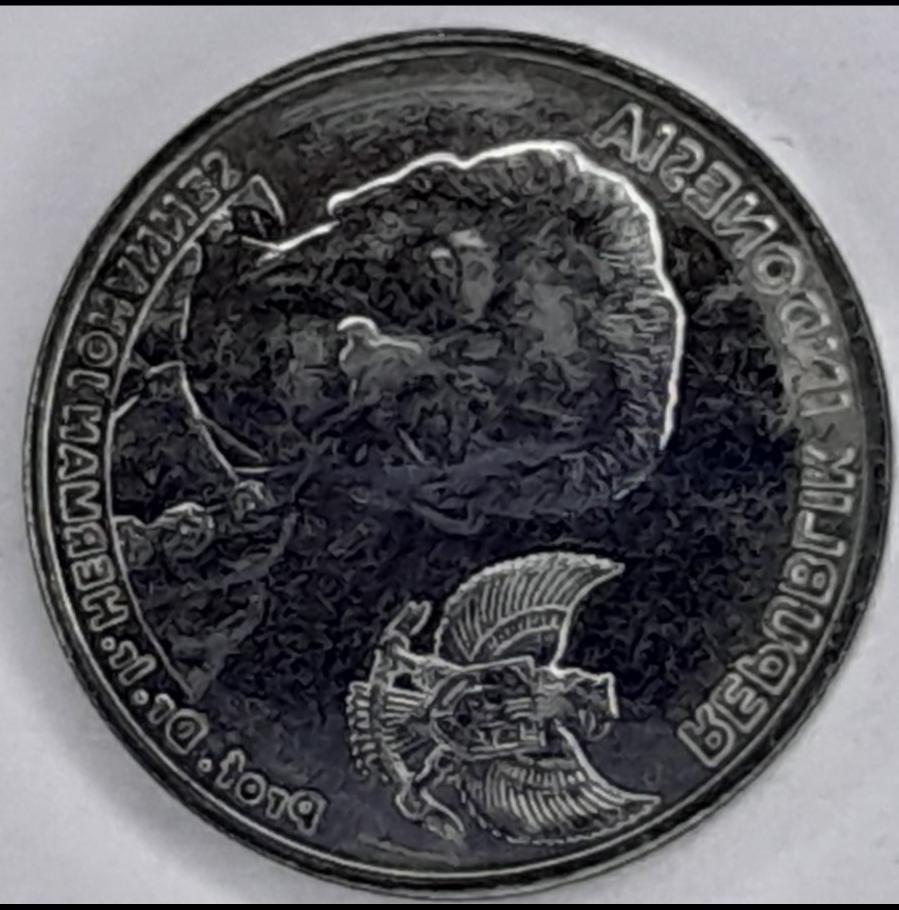coin_100_e2016: (18, 24, 896, 898)
